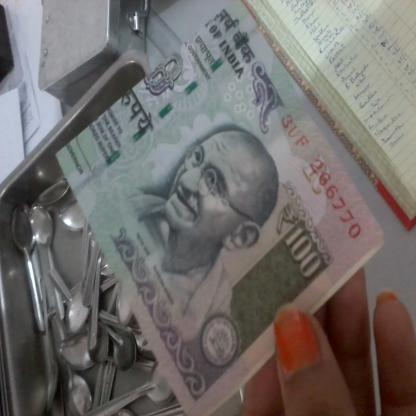Old100Front: (55, 0, 386, 416)
